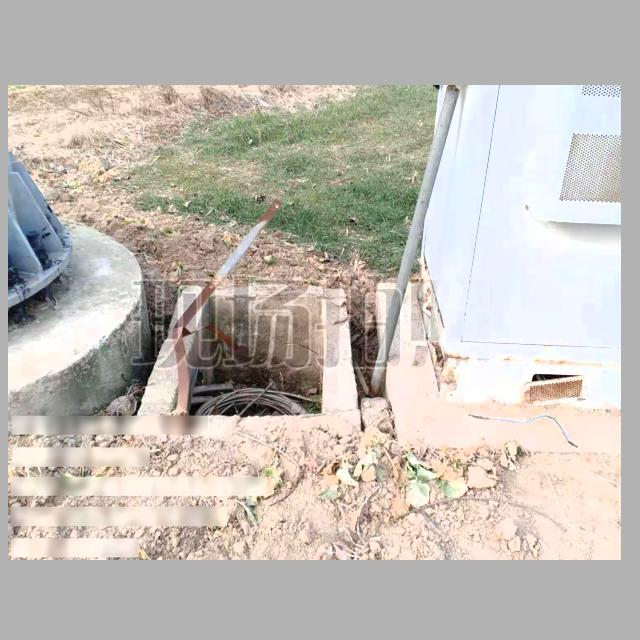lose: (170, 285, 325, 417)
